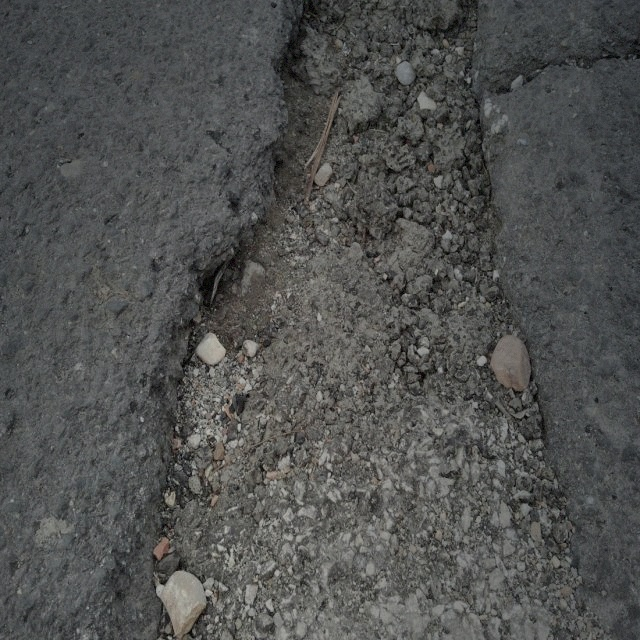pothole: (152, 50, 577, 550)
